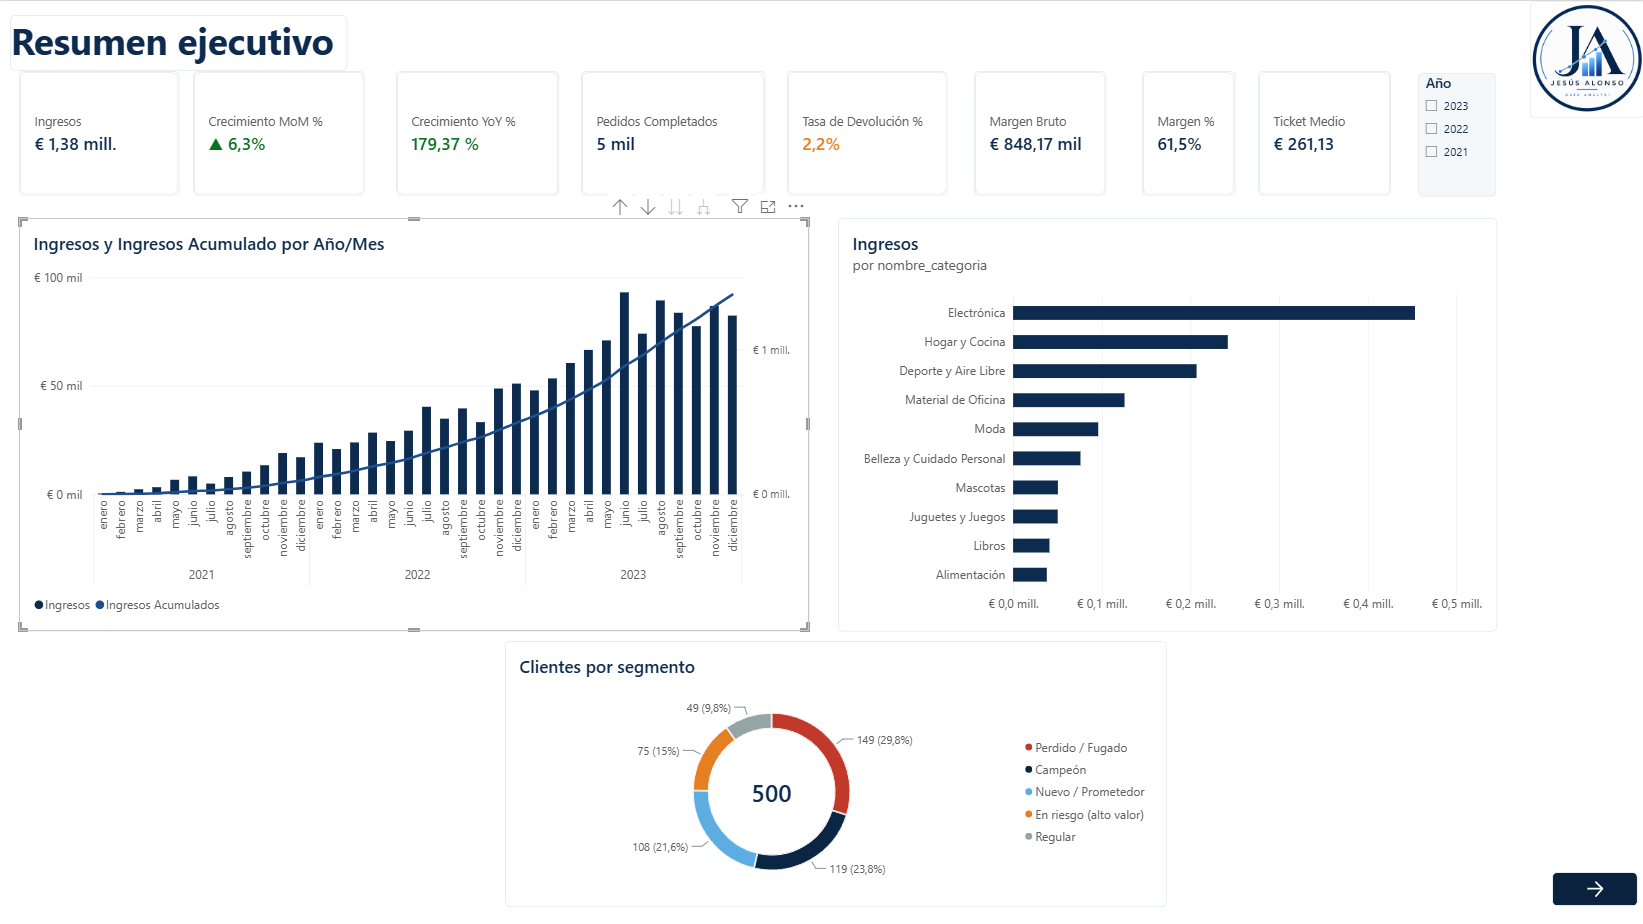

Layout of this report page (visuals, bound fields, positions):
{"tool":"powerbi","page":{"name":"Resumen_Ejecutivo","canvas":[1920,1080],"ordinal":0},"visuals":[{"type":"cardVisual","fields":{"Data":["_Medidas.Ingresos"]},"box":[25.5,81.5,186.5,145.3],"z":0},{"type":"cardVisual","fields":{"Data":["_Medidas.Pedidos Completados"]},"box":[680.2,81.5,215,145.3],"z":1000},{"type":"cardVisual","fields":{"Data":["_Medidas.Ticket Medio"]},"box":[1469.4,81.5,155.1,145.3],"z":2000},{"type":"cardVisual","fields":{"Data":["_Medidas.Margen %"]},"box":[1334,81.5,109,145.3],"z":3000},{"type":"textbox","box":[15.3,16.4,392.7,65.5],"z":5000},{"type":"lineClusteredColumnComboChart","title":"Ingresos y Ingresos Acumulado por Año/Mes","fields":{"Category":["Calendario.Año Jerarquía.Año","Calendario.Año Jerarquía.NombreMes"],"Y":["_Medidas.Ingresos"],"Y2":["_Medidas.Ingresos Acumulado"]},"box":[25.5,252.3,920.7,482],"z":6000},{"type":"barChart","fields":{"Category":["DIM_Categorias.nombre_categoria"],"Y":["_Medidas.Ingresos"]},"box":[979.6,252.3,767.6,482],"z":7000},{"type":"slicer","fields":{"Values":["Calendario.Año"]},"box":[1656,83.4,91.3,144.3],"z":8000},{"type":"cardVisual","fields":{"Data":["_Medidas.Tasa de Devolución %"]},"box":[920.7,81.5,187.5,145.3],"z":9000},{"type":"cardVisual","fields":{"Data":["_Medidas.Margen Bruto"]},"box":[1138.7,81.5,154.1,145.3],"z":10000},{"type":"cardVisual","fields":{"Data":["_Medidas.Crecimiento MoM (texto)"]},"box":[228.7,81.5,200.2,145.3],"z":11000},{"type":"image","box":[1785.8,0,134.2,136.4],"z":12000},{"type":"donutChart","title":"Clientes por segmento","fields":{"Category":["RFM_Clientes.Segmento"],"Y":["CountNonNull(RFM_Clientes.cliente_id)"]},"box":[591.3,745.1,771.3,309.8],"z":13000},{"type":"actionButton","box":[1812,1015,100,40],"z":14000},{"type":"cardVisual","fields":{"Data":["Calendario.Ingresos YoY %"]},"box":[464.3,81.5,190.4,145.3],"z":15000}]}

Visuals, with their boxes in screenshot pixels (x1, y1, x2, y2), scaled from the page's 1920x1080 canvas onto the 1643x924 screenshot:
cardVisual - _Medidas.Ingresos: [x1=22, y1=70, x2=181, y2=194]
cardVisual - _Medidas.Pedidos Completados: [x1=582, y1=70, x2=766, y2=194]
cardVisual - _Medidas.Ticket Medio: [x1=1257, y1=70, x2=1390, y2=194]
cardVisual - _Medidas.Margen %: [x1=1142, y1=70, x2=1235, y2=194]
textbox: [x1=13, y1=14, x2=349, y2=70]
"Ingresos y Ingresos Acumulado por Año/Mes" lineClusteredColumnComboChart: [x1=22, y1=216, x2=810, y2=628]
barChart - DIM_Categorias.nombre_categoria x _Medidas.Ingresos: [x1=838, y1=216, x2=1495, y2=628]
slicer - Calendario.Año: [x1=1417, y1=71, x2=1495, y2=195]
cardVisual - _Medidas.Tasa de Devolución %: [x1=788, y1=70, x2=948, y2=194]
cardVisual - _Medidas.Margen Bruto: [x1=974, y1=70, x2=1106, y2=194]
cardVisual - _Medidas.Crecimiento MoM (texto): [x1=196, y1=70, x2=367, y2=194]
image: [x1=1528, y1=0, x2=1642, y2=117]
"Clientes por segmento" donutChart: [x1=506, y1=637, x2=1166, y2=903]
actionButton: [x1=1551, y1=868, x2=1636, y2=903]
cardVisual - Calendario.Ingresos YoY %: [x1=397, y1=70, x2=560, y2=194]
